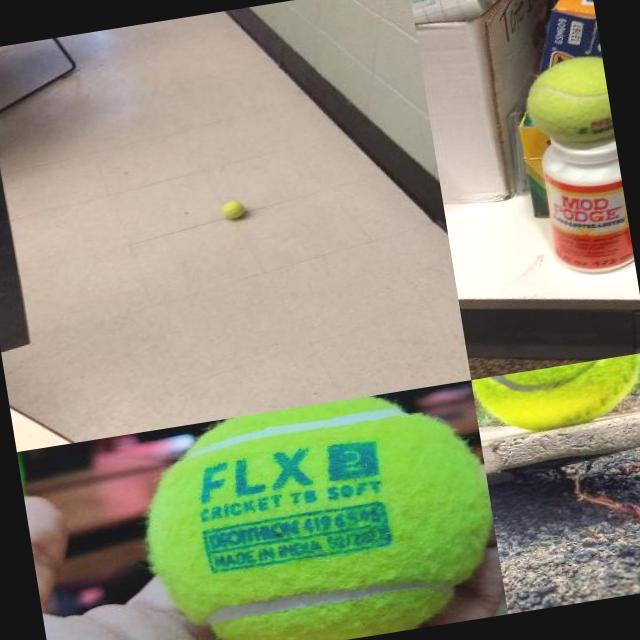Tennis Ball: (129, 380, 507, 640), (471, 352, 640, 438), (518, 52, 614, 151), (219, 198, 246, 222)
